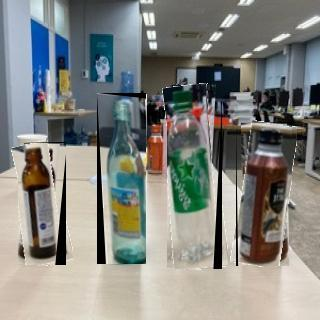bottle: (168, 84, 224, 270), (98, 93, 148, 265), (236, 122, 293, 267), (18, 142, 67, 266)
